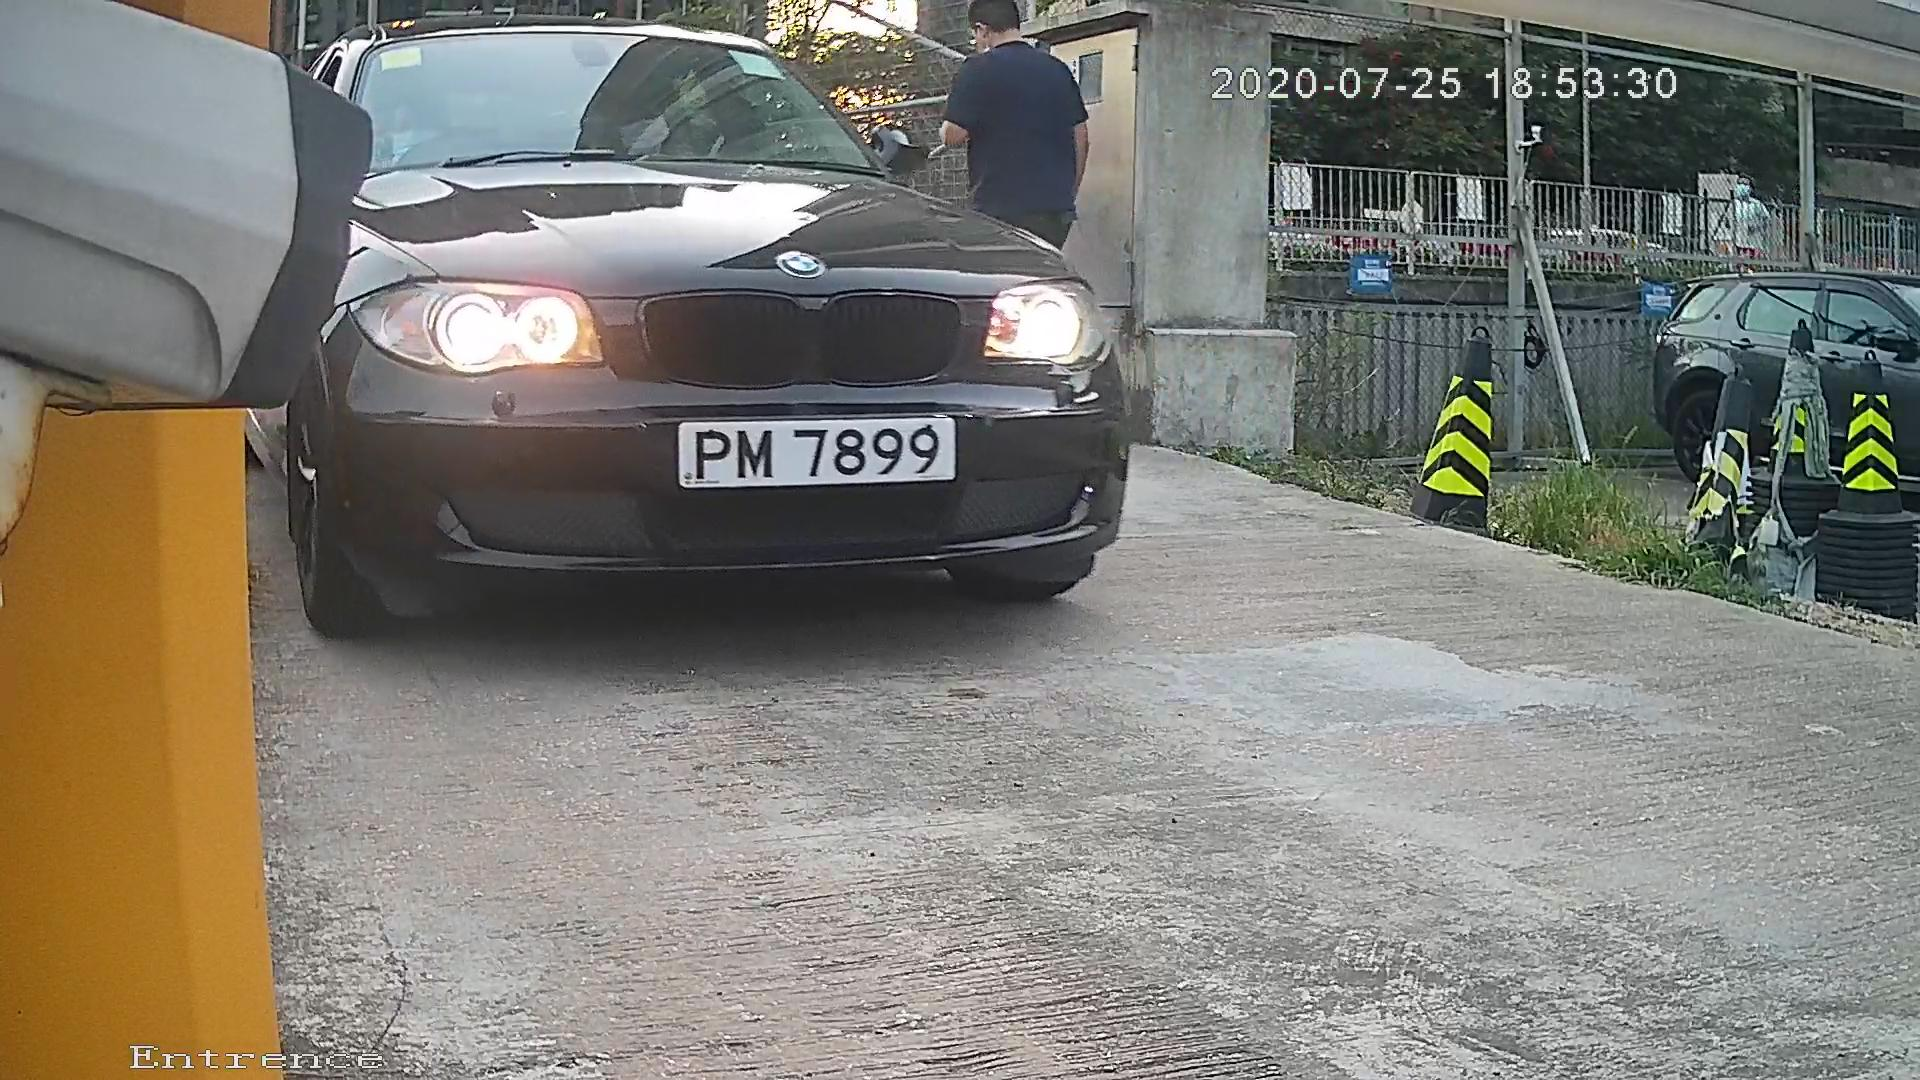License Plate: (643, 406, 978, 502)
